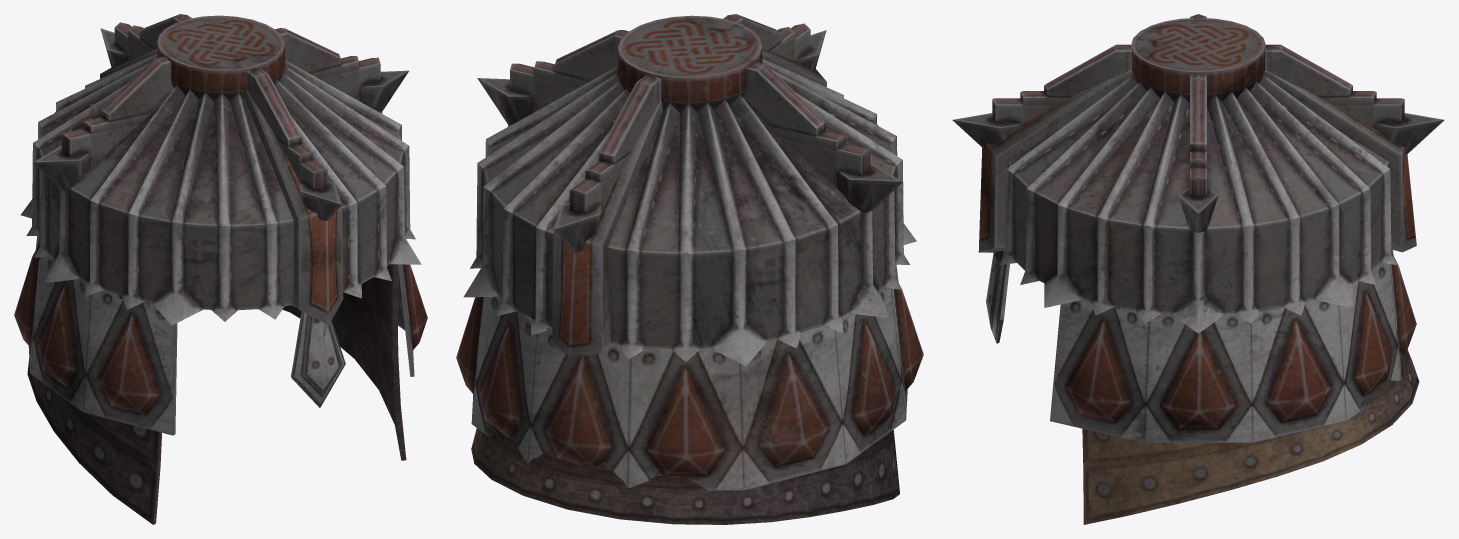
Rendered from sk_dwarf_iron_helmet_elite_b2.fbx.
3 renders of one model, left to right at view 1: azimuth 30°, elevation 25°; view 2: azimuth 150°, elevation 25°; view 3: azimuth 270°, elevation 25°, orthographic. The views are drawn at different scales.
Parts seen in each view (by area): view 1: sk_dwarf_iron_helmet_elite_b2; view 2: sk_dwarf_iron_helmet_elite_b2; view 3: sk_dwarf_iron_helmet_elite_b2.
Boxes of the visible parts, x1=… form: sk_dwarf_iron_helmet_elite_b2: x1=14, y1=14, x2=427, y2=524; sk_dwarf_iron_helmet_elite_b2: x1=456, y1=14, x2=923, y2=524; sk_dwarf_iron_helmet_elite_b2: x1=952, y1=14, x2=1444, y2=524.
Size of the model in its own units: 0.3183 by 0.3532 by 0.3294.
Materials: 1 (1 with a texture image).
